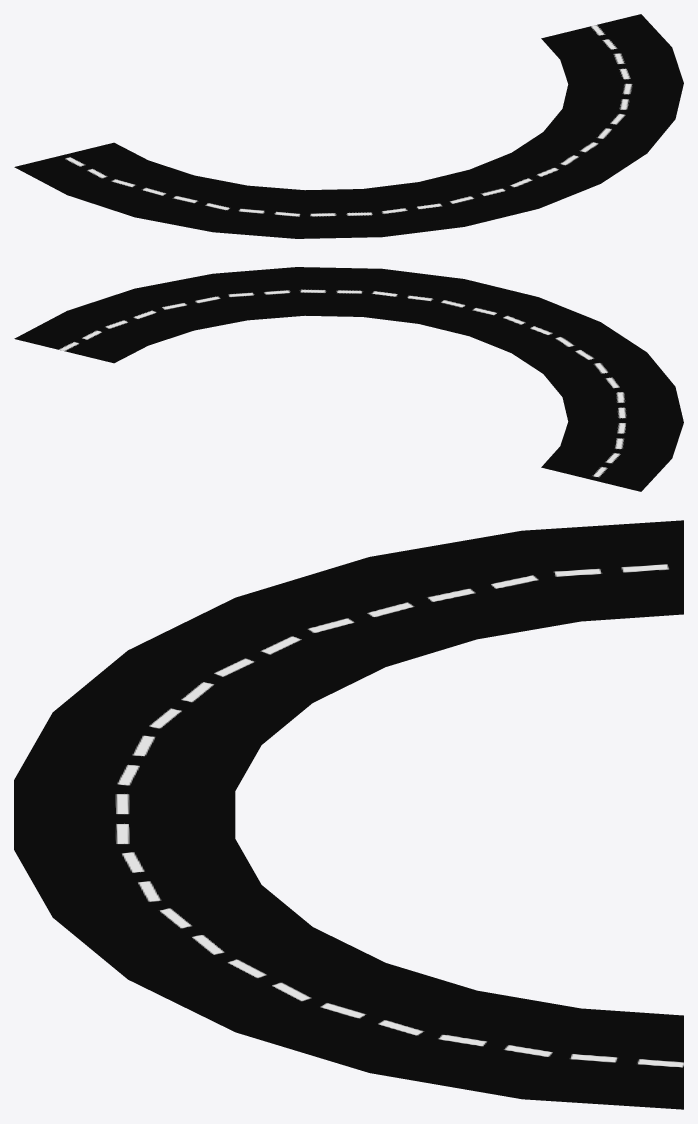
File: CHANGES (road1).fbx
3 renders of one model, top to bottom at view 1: azimuth 30°, elevation 25°; view 2: azimuth 150°, elevation 25°; view 3: azimuth 270°, elevation 25°, orthographic. The views are drawn at different scales.
Visible parts, largest first — view 1: pPlane1; view 2: pPlane1; view 3: pPlane1.
Part boxes in pixels (<box>): pPlane1: <box>14,14,683,238</box>; pPlane1: <box>14,267,683,491</box>; pPlane1: <box>14,520,683,1109</box>.
Size of what is drawn, in the model's own units: 8711 by 0.00251 by 4185.
Materials: 1 (1 with a texture image).
